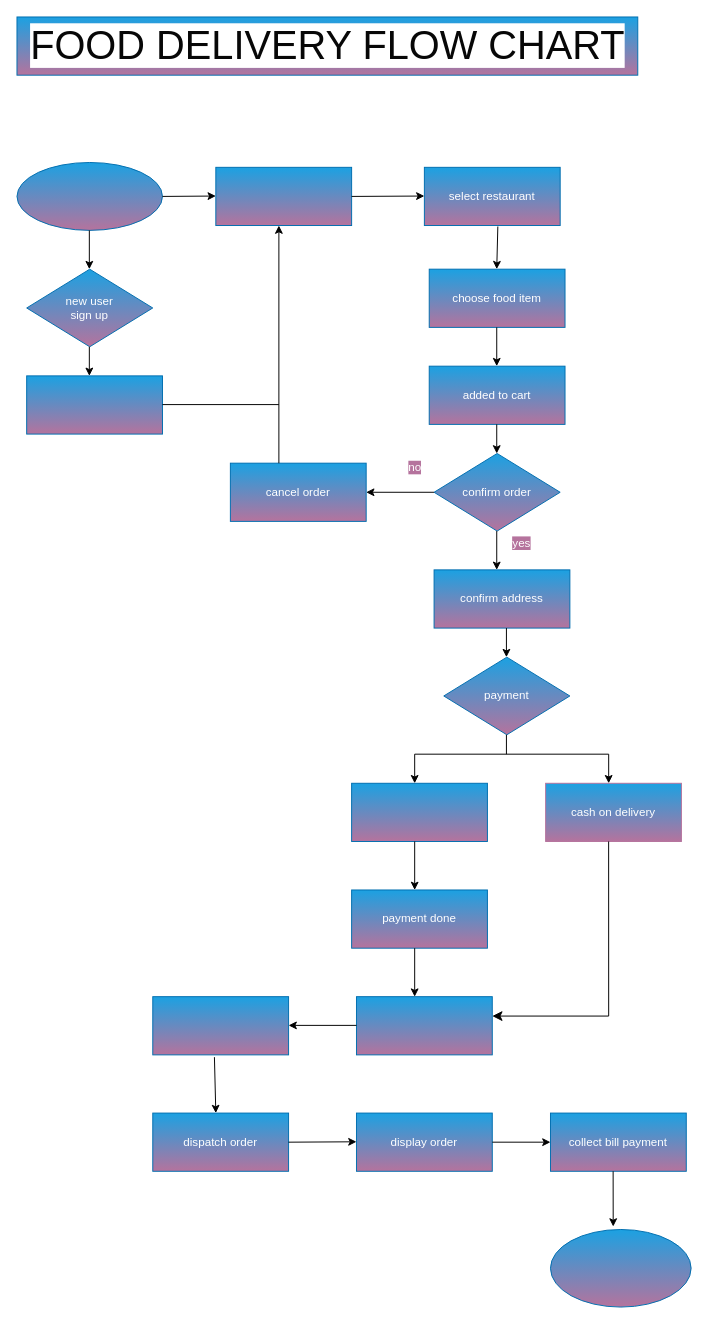
Image size: 708x1324. Some labels were removed from this diagram. Here are the shapes that lost their labels. From the top down, the centre of each, then its label:
At [89,196]: "start".
At [283,196]: "home page shows available restaurants".
At [94,404]: "edit address".
At [419,811]: "UPI".
At [220,1025]: "prepare order".
At [424,1025]: "ordered placed".
At [620,1268]: "end".
